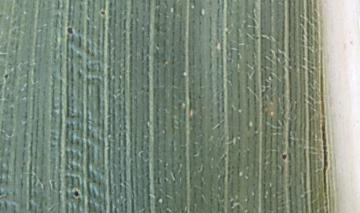tarspot: (66, 26, 75, 35), (72, 188, 80, 197), (280, 152, 288, 159), (3, 72, 9, 80), (99, 9, 106, 15)
